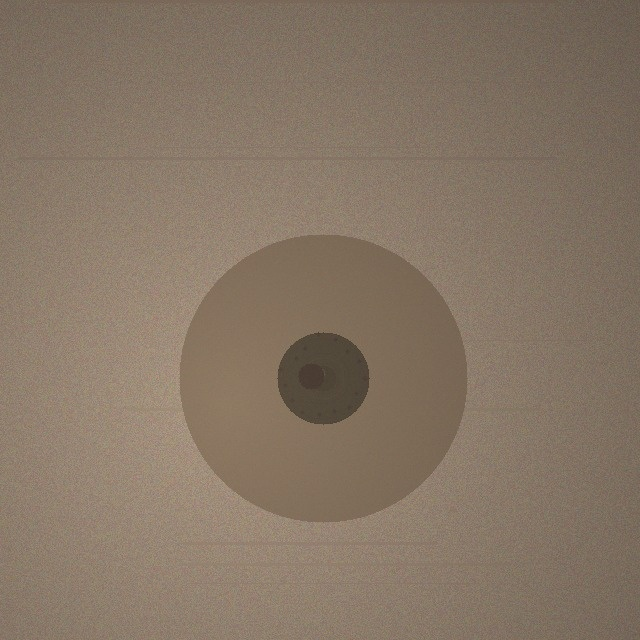cold_weld: (179, 234, 467, 522)
